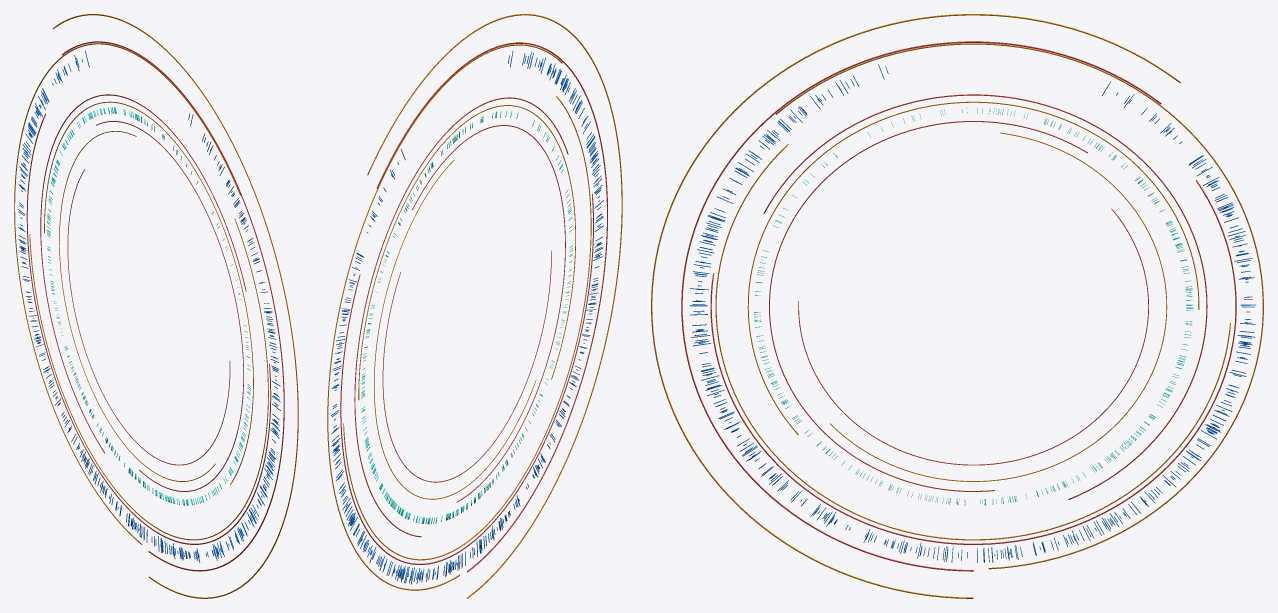
The picture shows the model from 3 angles, left to right: view 1: azimuth 30°, elevation 25°; view 2: azimuth 150°, elevation 25°; view 3: azimuth 270°, elevation 25°; orthographic projection. The views are drawn at different scales.
Parts seen in each view (by area): view 1: circle_2, circle_1, dot_1, dot_2; view 2: circle_2, circle_1, dot_1, dot_2; view 3: circle_2, circle_1, dot_1, dot_2.
Part boxes in pixels (<box>): circle_2: <box>14,14,298,598</box>; circle_1: <box>26,41,284,571</box>; dot_1: <box>17,50,280,562</box>; dot_2: <box>47,107,250,505</box>; circle_2: <box>327,14,622,598</box>; circle_1: <box>340,42,607,572</box>; dot_1: <box>331,51,603,584</box>; dot_2: <box>361,111,572,524</box>; circle_2: <box>651,14,1263,598</box>; circle_1: <box>681,41,1236,571</box>; dot_1: <box>690,64,1255,562</box>; dot_2: <box>754,107,1193,505</box>.
Bounding box in the file's own units: 0.5 × 580 × 551.
